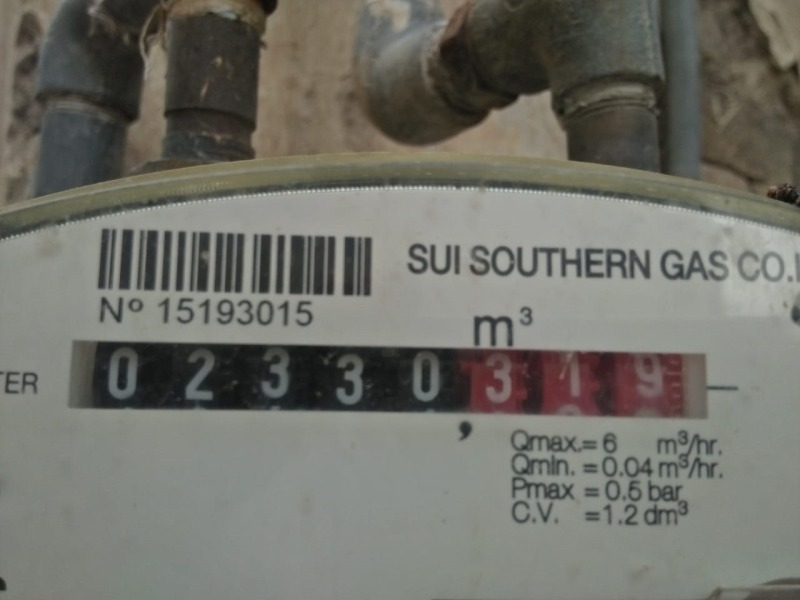ssgc: (60, 337, 709, 424)
